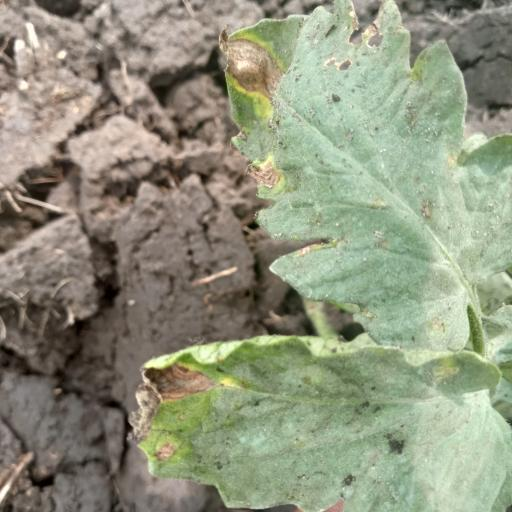Tomato_Mosaic: (212, 0, 511, 361), (128, 330, 512, 512)
